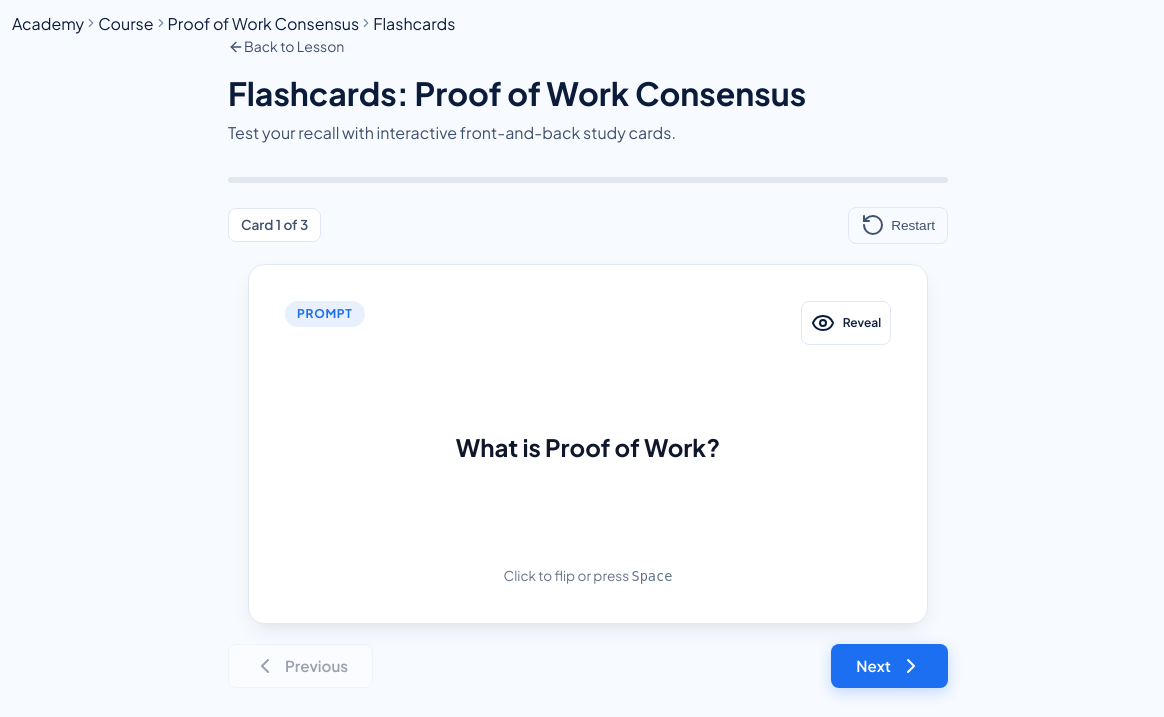
Test: FlashcardReviewPage (FEAT-022: AC-001..AC-018) › navigates to previous card and resets reveal state
The width and height of the screenshot is (1164, 717).
// Advance to Card 2
Click the button with test id "flashcard-next-button". click: (890, 666)
box: [831,644,948,688]
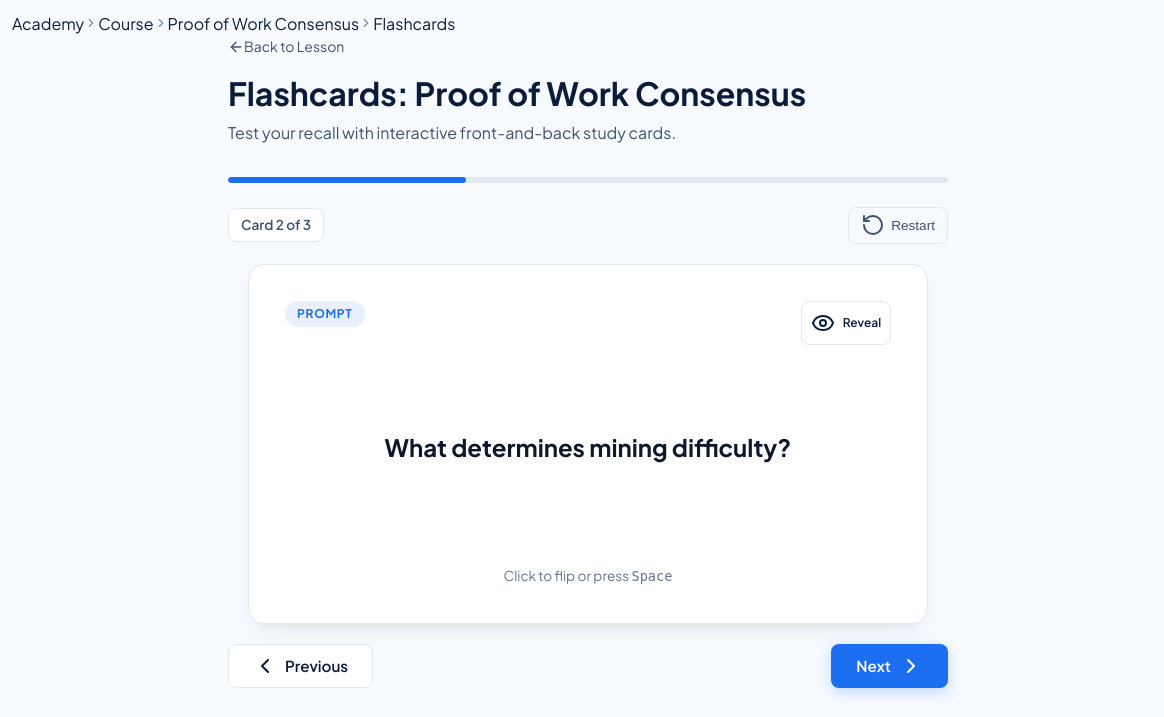
Check: the text with test id "flashcard-position-badge" reads "Card 2 of 3", box [228,208,324,242]
// Reveal Card 2
Click the button with test id "flashcard-reveal-button". click: (846, 323)
box: [801,301,891,345]
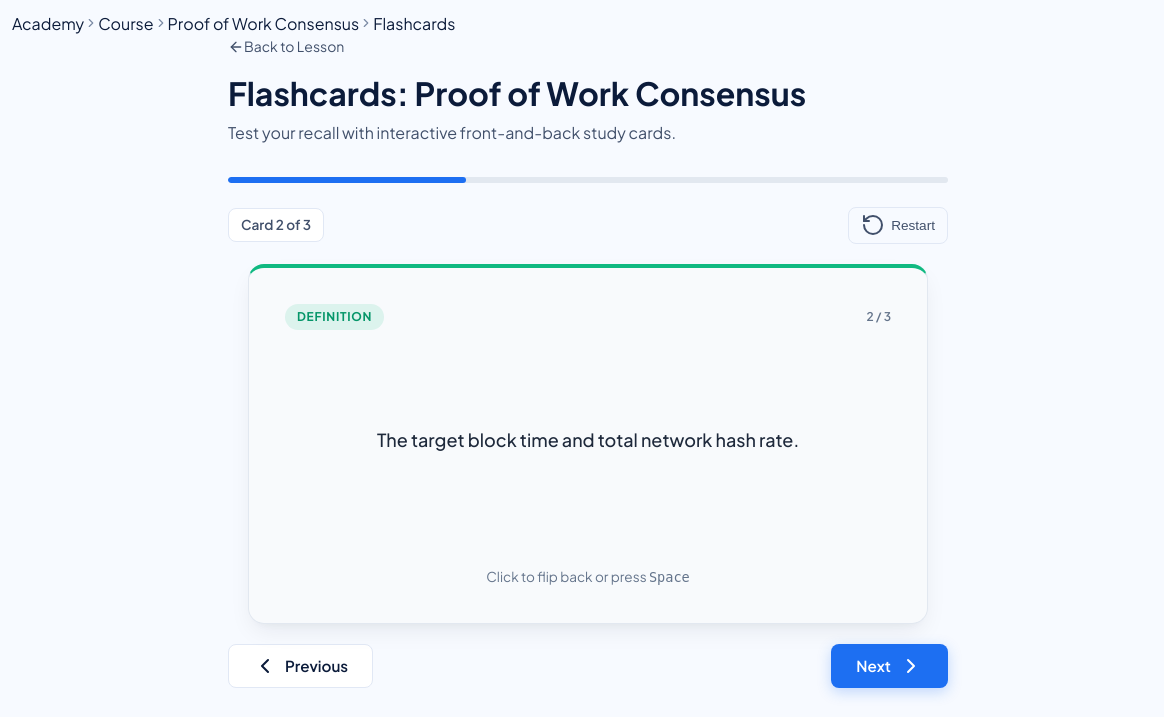
Check: the element with test id "flashcard-back-section" is shown, box [248,264,928,624]
// Click Previous back to Card 1
Click the button with test id "flashcard-prev-button". click: (301, 666)
box: [228,644,373,688]
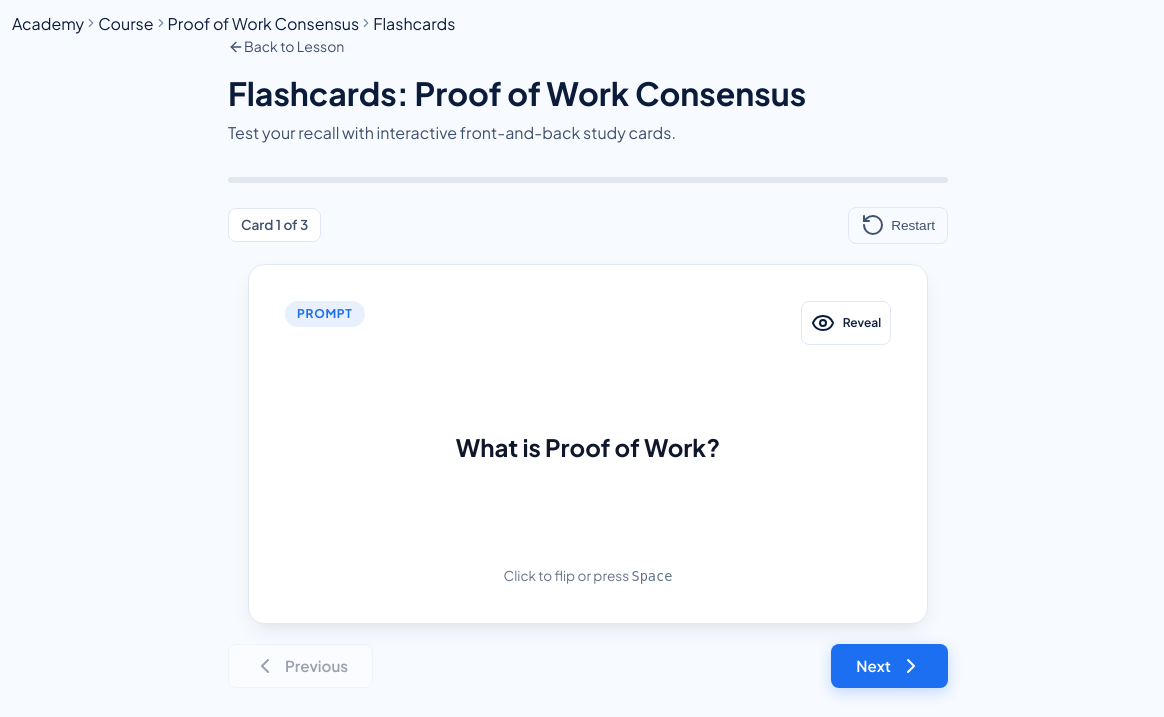
Check: the text with test id "flashcard-position-badge" reads "Card 1 of 3", box [228,208,321,242]
Check: the element with test id "flashcard-back-section" is gone
Check: the button with test id "flashcard-reveal-button" is shown, box [801,301,891,345]
